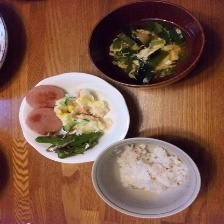rice: (109, 142, 191, 205)
